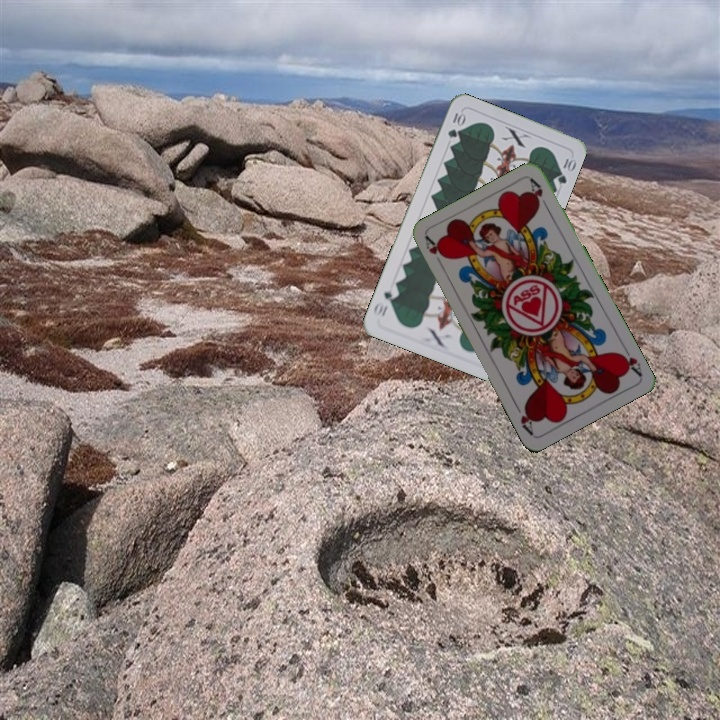G10: (443, 108, 467, 141)
HA: (614, 341, 644, 378), (421, 233, 448, 270)
